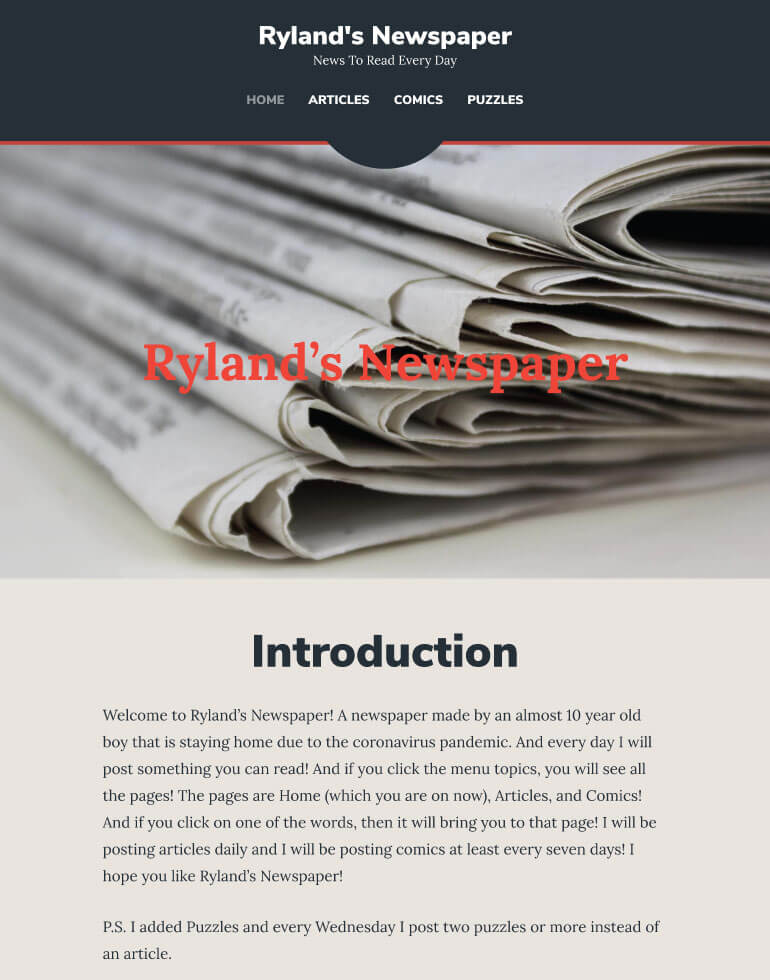news_paper: (2, 2, 770, 980)
